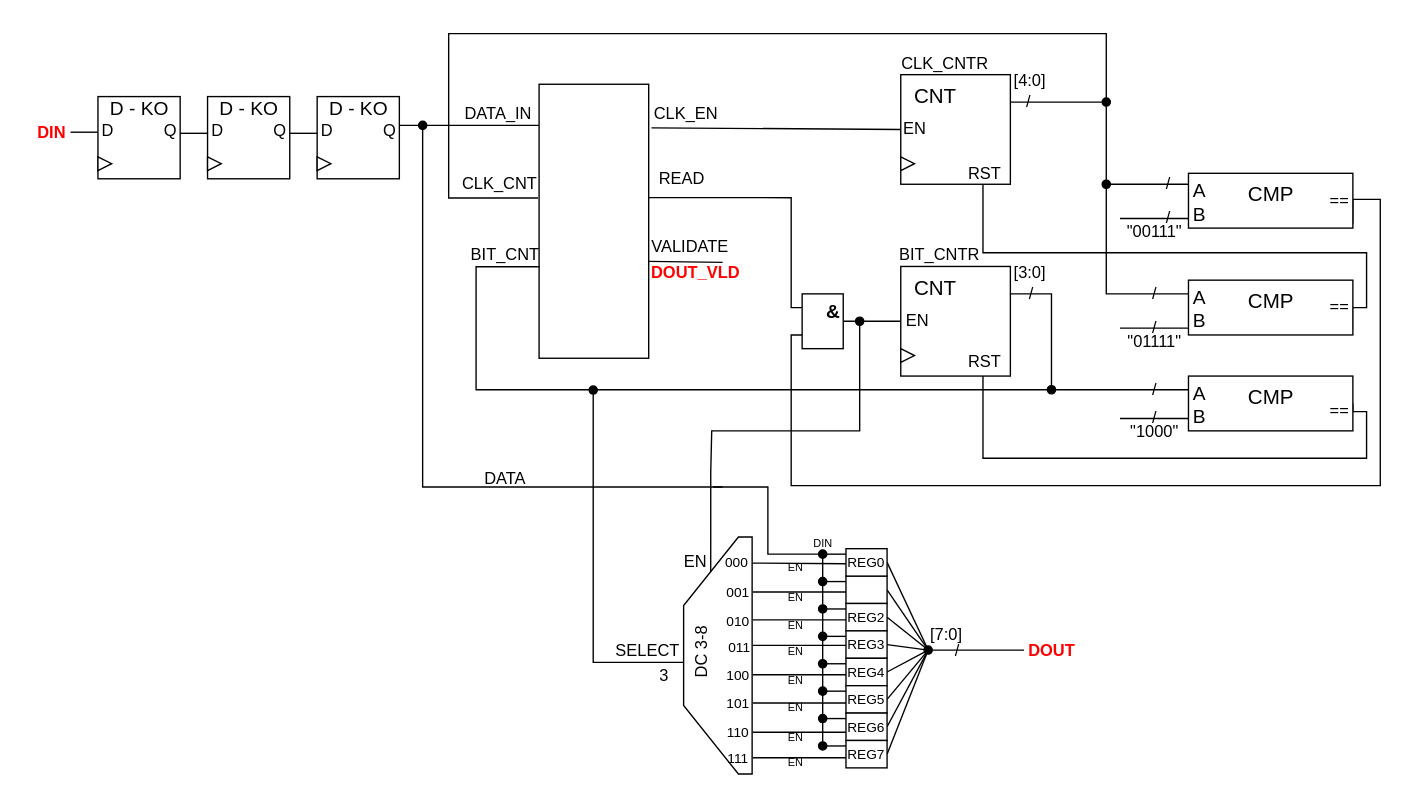
Some shapes in this 1406 by 806 pixel diagram are drawn without their labels. The box of each missing label's shape, as (x1, y1, x2, y2) in pixels:
FSM: (538, 83, 649, 358)
REG1: (845, 575, 887, 603)
